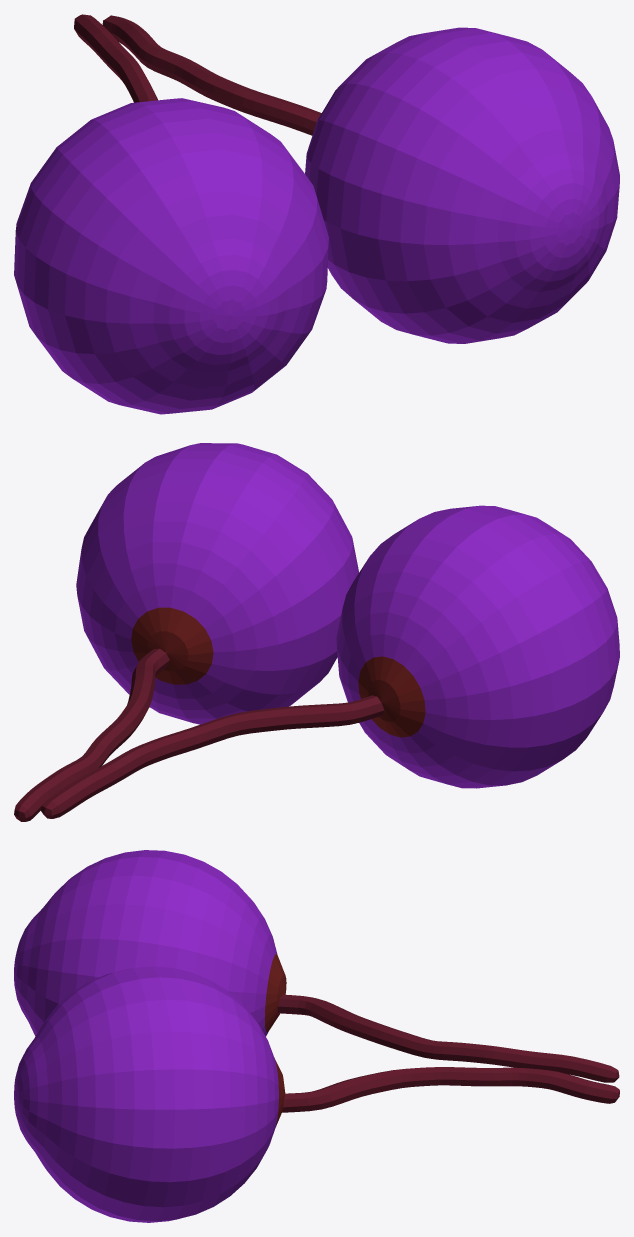
The model's file is Item_Medusa_Eyes.fbx.
3 renders of one model, top to bottom at view 1: azimuth 30°, elevation 25°; view 2: azimuth 150°, elevation 25°; view 3: azimuth 270°, elevation 25°, orthographic. The views are drawn at different scales.
Visible parts, largest first — view 1: Medusa_Eyes_Right, Medusa_Eyes_Left, Plane, Plane.001; view 2: Medusa_Eyes_Right, Medusa_Eyes_Left, Plane.001, Plane; view 3: Medusa_Eyes_Left, Medusa_Eyes_Right, Plane.001, Plane.
Boxes of the visible parts, box(x1,y1,x2,y2) form: Medusa_Eyes_Right: box(14, 98, 328, 414); Medusa_Eyes_Left: box(305, 27, 619, 343); Plane: box(102, 15, 321, 135); Plane.001: box(74, 14, 157, 102); Medusa_Eyes_Right: box(336, 505, 619, 788); Medusa_Eyes_Left: box(76, 443, 358, 724); Plane.001: box(41, 695, 384, 818); Plane: box(14, 648, 169, 821); Medusa_Eyes_Left: box(14, 966, 285, 1222); Medusa_Eyes_Right: box(14, 850, 286, 1036); Plane.001: box(277, 994, 619, 1082); Plane: box(282, 1067, 619, 1112).
Size of the model in its own units: 30.84 by 14.97 by 35.2.
